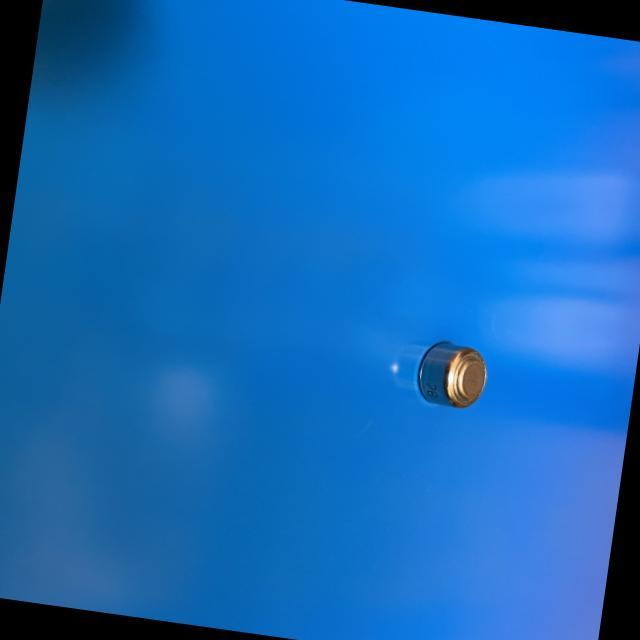COIN: (409, 336, 492, 417)
